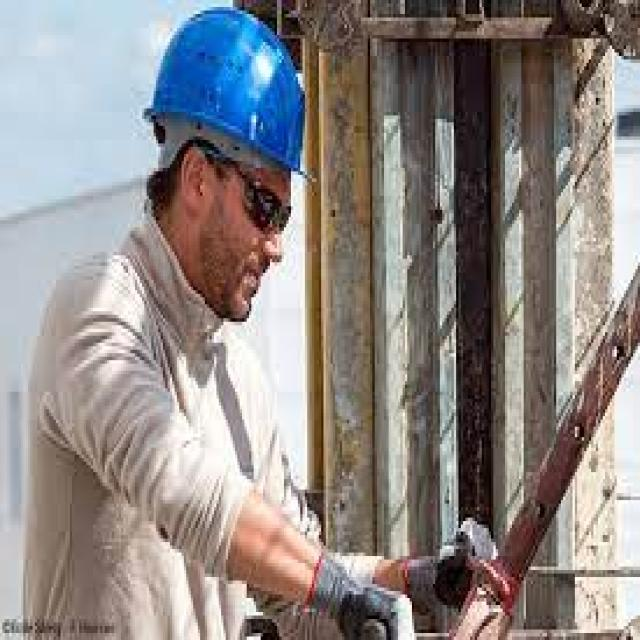glasses: (228, 175, 296, 244)
